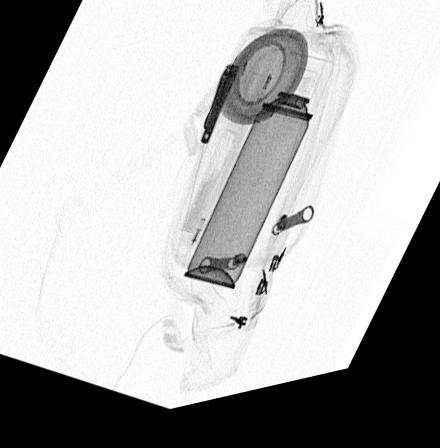Sprayer: (181, 62, 338, 303)
